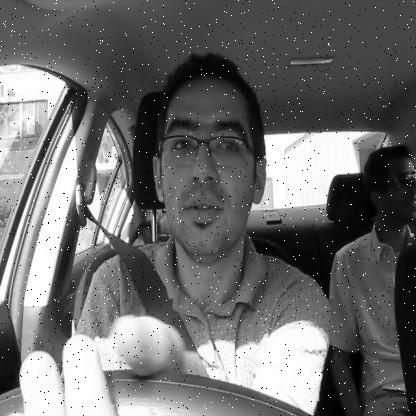seatbelt: (75, 43, 295, 416)
